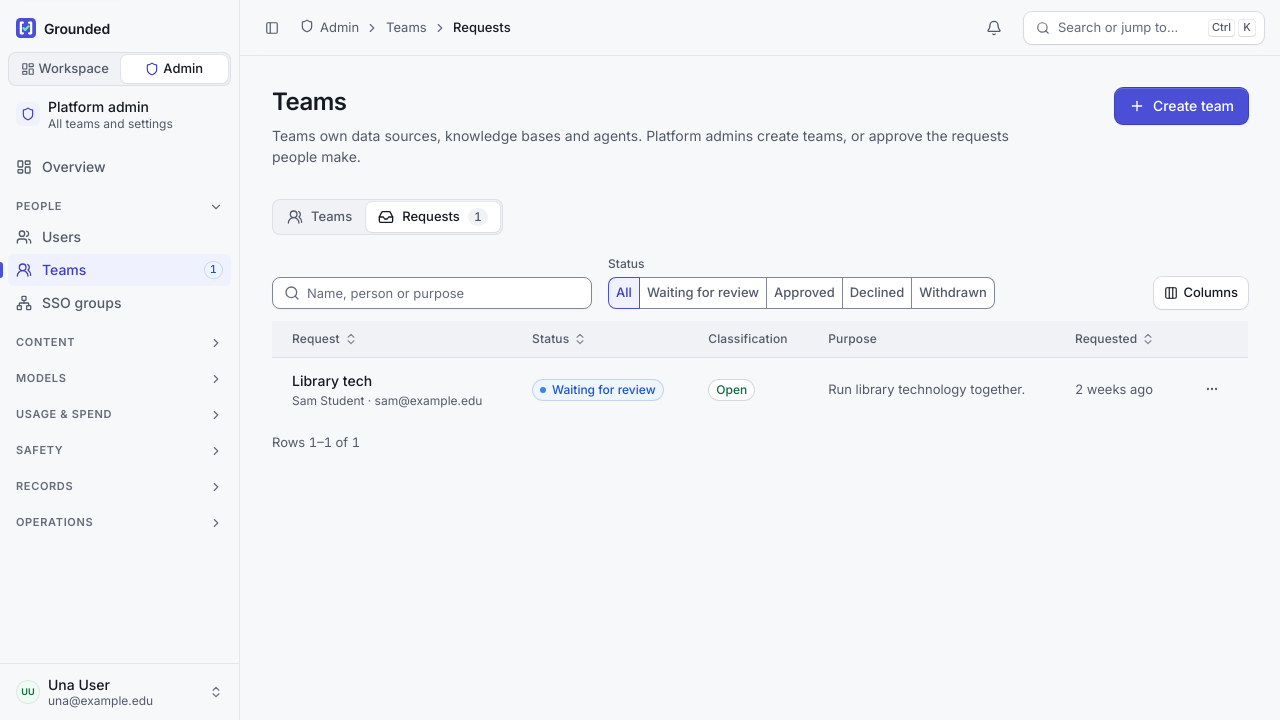
a request someone else decided first › closes the Approve dialog, refreshes the queue and says why
This screenshot has width=1280, height=720.
Click the button named "Actions for Library tech".
click(1212, 389)  # box [1196,373,1228,405]
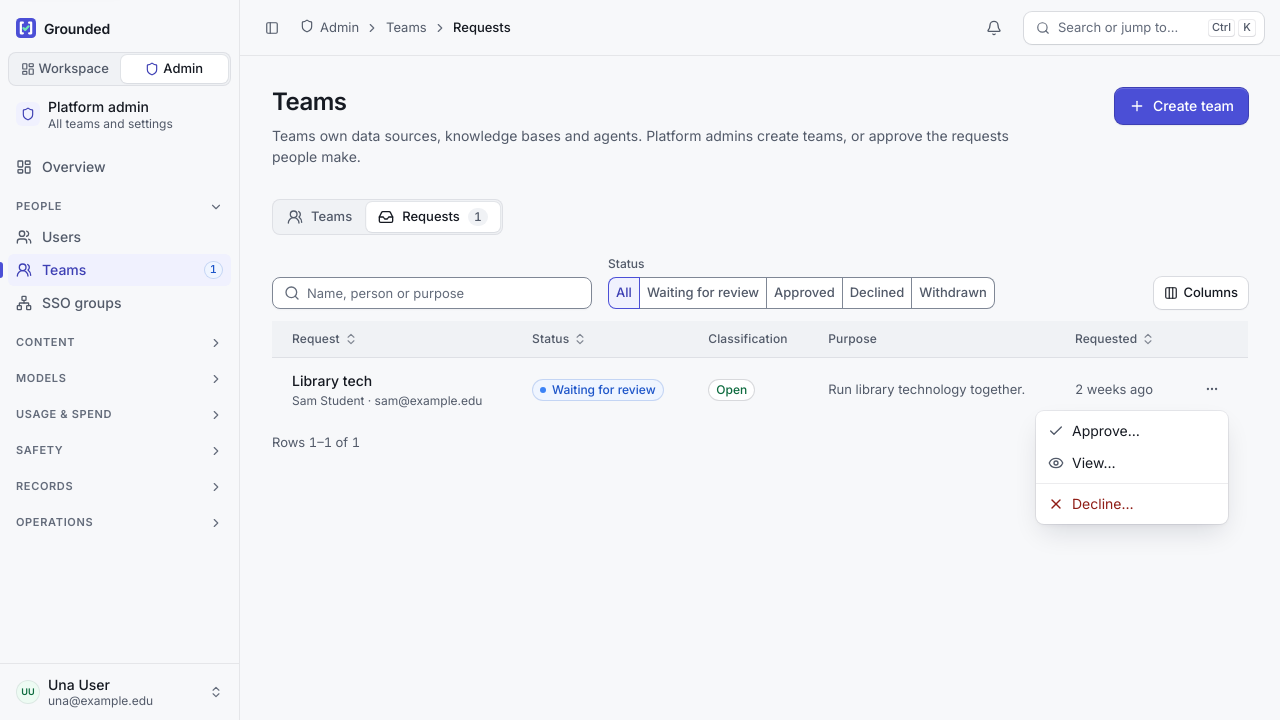
Click the menu item "Approve…".
click(1094, 430)  # box [1048,422,1140,439]
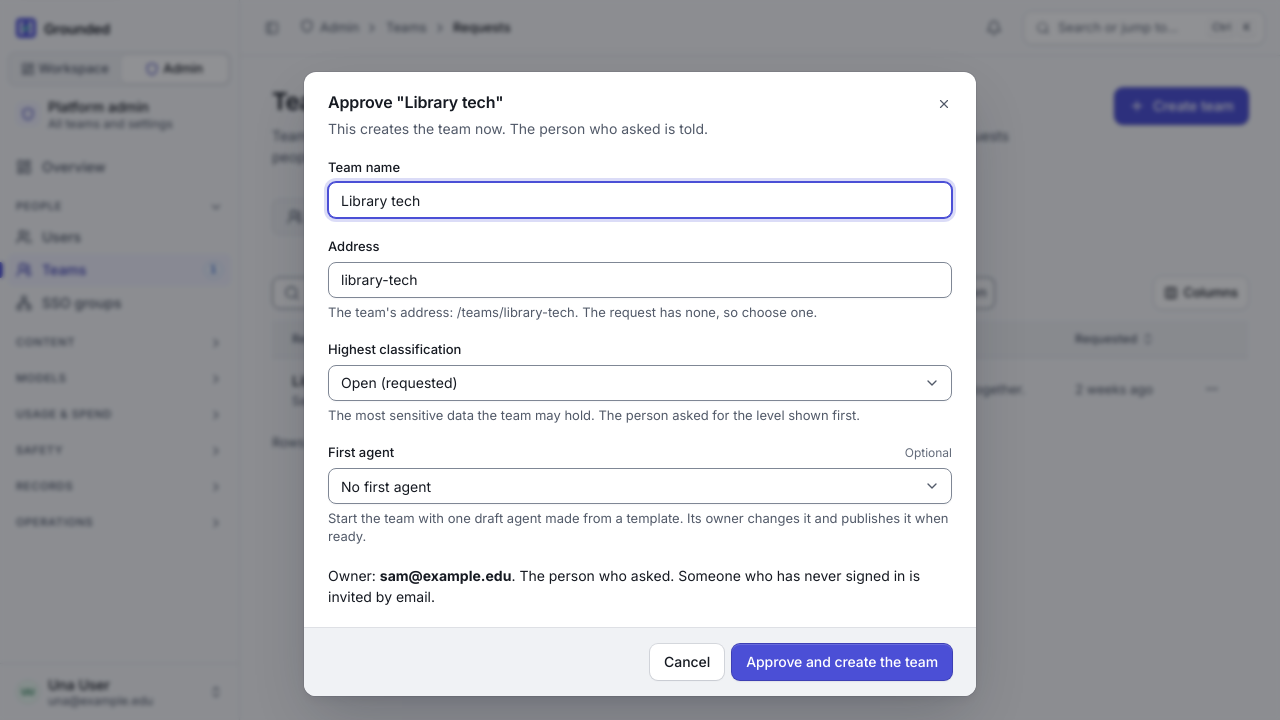
Click the button "Approve and create the team".
click(842, 662)  # box [732,644,952,680]
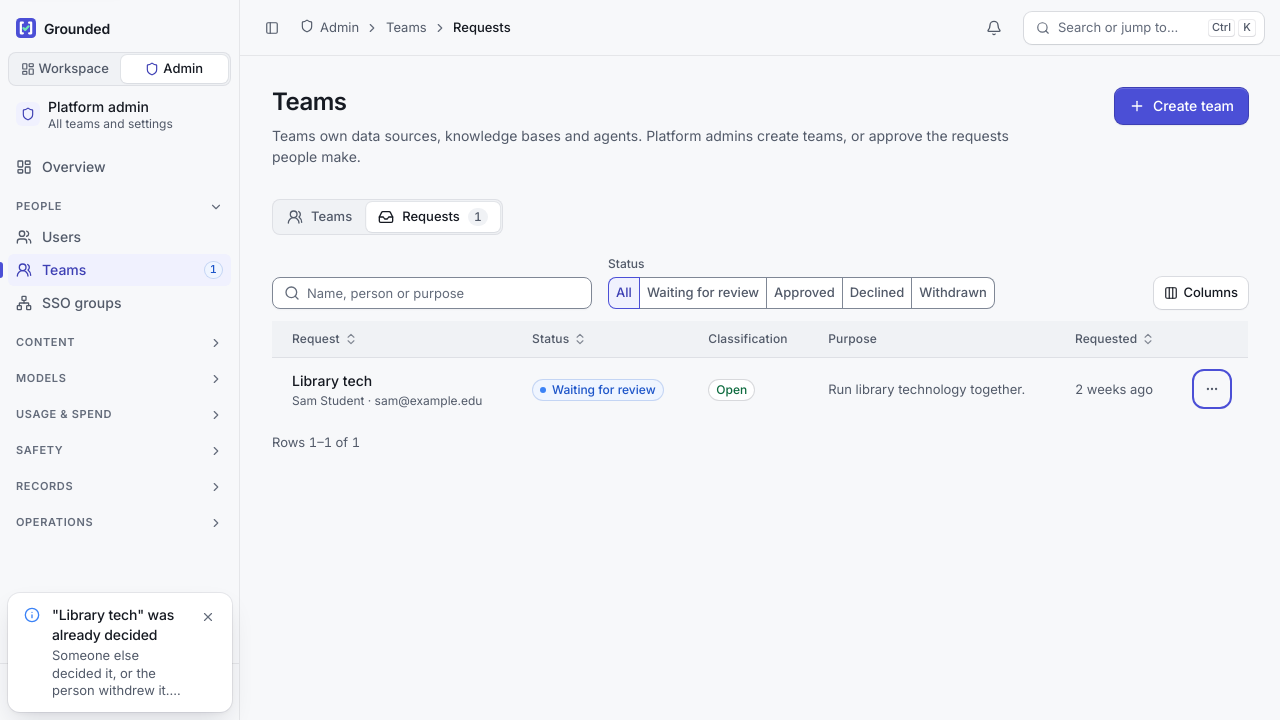
expect the heading "\"Library tech\" was already decided" is shown: met, box [52,605,184,645]
